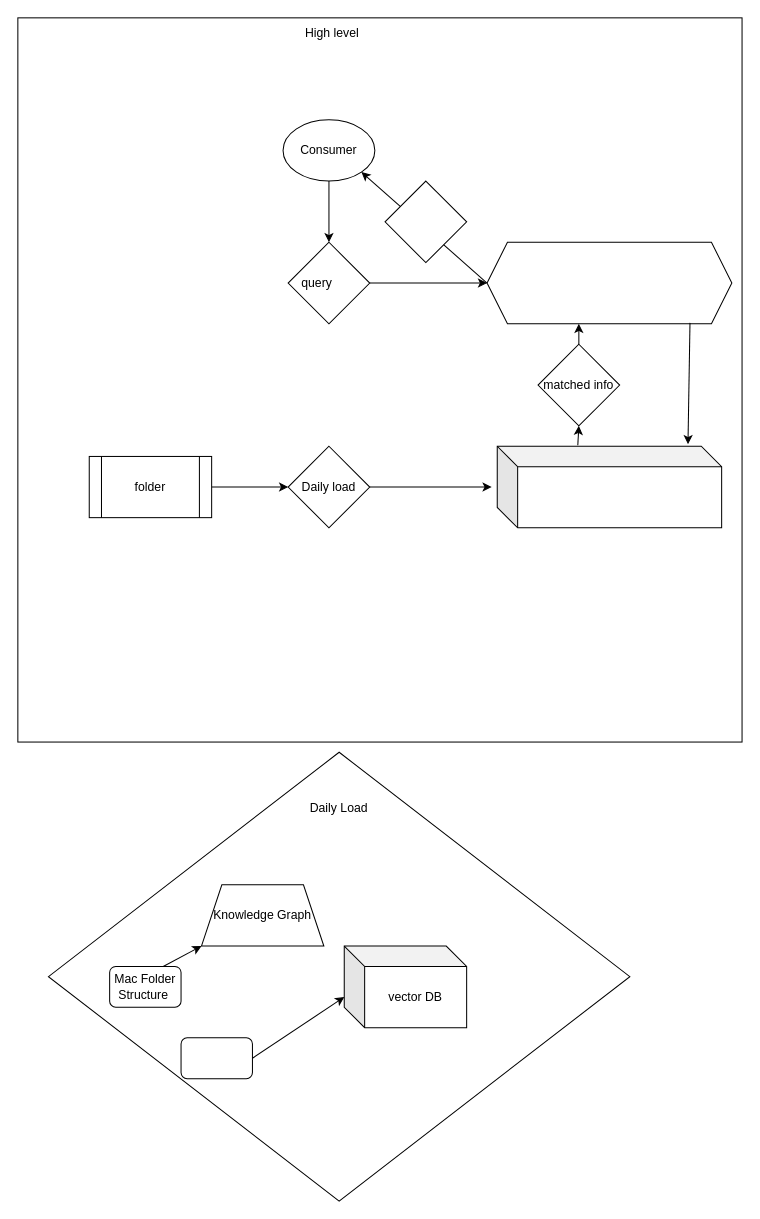
This 760x1219 diagram has some shape labels left out. The box of each missing label's shape, as (x1, y1, x2, y2) in pixels:
information: (384, 180, 467, 263)
Information Storage: (496, 445, 722, 528)
LLM family: (486, 241, 732, 324)
Readme info: (180, 1037, 252, 1079)
